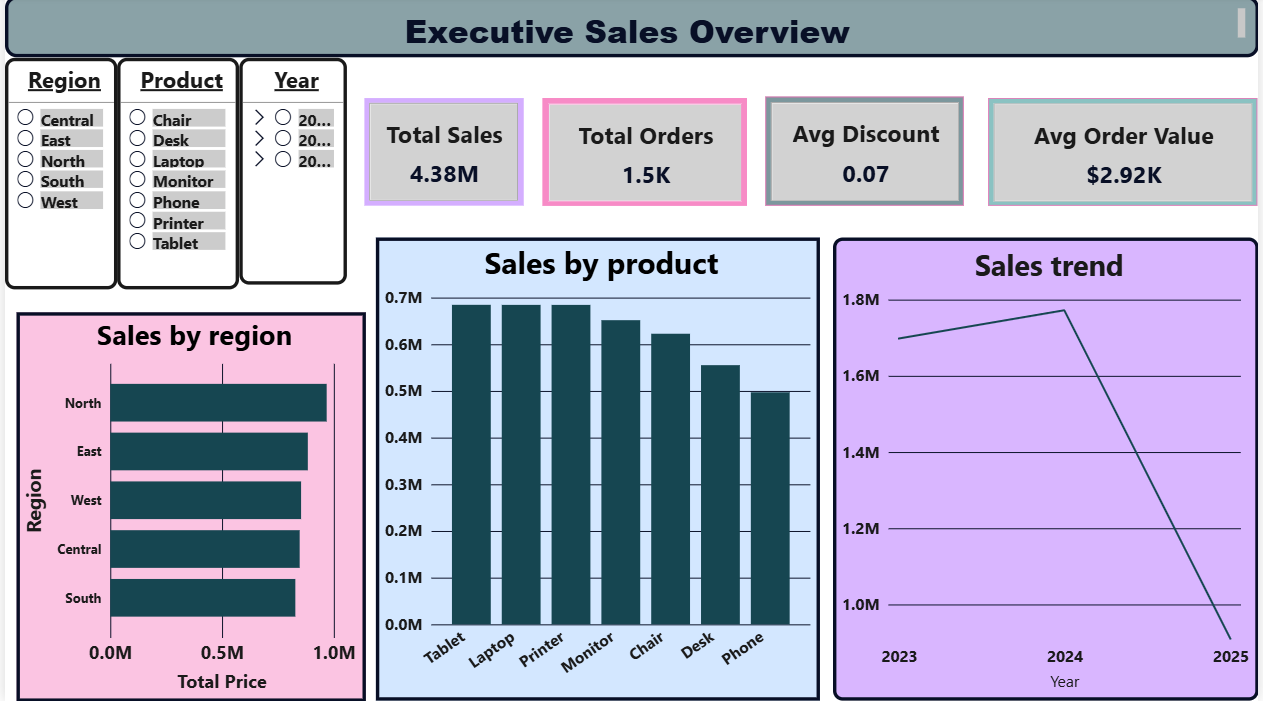

The dashboard page shown, as its layout file describes it:
{"tool":"powerbi","page":{"name":"Executive Overview","canvas":[1280,720],"ordinal":0},"visuals":[{"type":"cardVisual","fields":{"Data":["Count(Sheet1.OrderID)"]},"box":[549.1,104.2,208.5,110.1],"z":0},{"type":"cardVisual","fields":{"Data":["Sum(Sheet1.TotalPrice)"]},"box":[367.1,104.2,163,110.1],"z":1000},{"type":"cardVisual","fields":{"Data":["Sheet1.AvgDiscount"]},"box":[776.7,102.8,202.6,111.6],"z":2000},{"type":"clusteredBarChart","title":"Sales by region","fields":{"Category":["Sheet1.Region"],"Y":["Sum(Sheet1.TotalPrice)"]},"box":[11.7,323,356.8,397.9],"z":3000},{"type":"clusteredColumnChart","title":"Sales by product","fields":{"Category":["Sheet1.Product"],"Y":["Sum(Sheet1.TotalPrice)"]},"box":[378.8,246.7,453.7,472.8],"z":4000},{"type":"lineChart","title":"Sales trend","fields":{"Category":["Sheet1.Date.Variation.Date Hierarchy.Year","Sheet1.Date.Variation.Date Hierarchy.Quarter","Sheet1.Date.Variation.Date Hierarchy.Month","Sheet1.Date.Variation.Date Hierarchy.Day"],"Y":["Sum(Sheet1.TotalPrice)"]},"box":[845.7,246.7,434.6,472.8],"z":5000},{"type":"listSlicer","fields":{"Values":["Sheet1.Region"]},"box":[0,63.1,114.5,236.4],"z":6000},{"type":"cardVisual","fields":{"Data":["Sheet1.AverageOrderValue"]},"box":[1004.3,104.2,274.6,110.1],"z":7000},{"type":"textbox","box":[0,0,1280.6,62.7],"z":8000},{"type":"listSlicer","fields":{"Values":["Sheet1.Product"]},"box":[114.5,63.1,124.8,236.4],"z":9000},{"type":"listSlicer","fields":{"Values":["Sheet1.Date.Variation.Date Hierarchy.Year","Sheet1.Date.Variation.Date Hierarchy.Quarter","Sheet1.Date.Variation.Date Hierarchy.Month","Sheet1.Date.Variation.Date Hierarchy.Day"]},"box":[239.3,63.1,110.1,232],"z":10000}]}

Visuals, with their boxes in screenshot pixels (x1, y1, x2, y2), scaled from the page's 1280x720 canvas onto the 1263x701 screenshot:
cardVisual - Count(Sheet1.OrderID): BBox(542, 101, 748, 209)
cardVisual - Sum(Sheet1.TotalPrice): BBox(362, 101, 523, 209)
cardVisual - Sheet1.AvgDiscount: BBox(766, 100, 966, 209)
"Sales by region" clusteredBarChart: BBox(12, 314, 364, 700)
"Sales by product" clusteredColumnChart: BBox(374, 240, 821, 700)
"Sales trend" lineChart: BBox(834, 240, 1262, 700)
listSlicer - Sheet1.Region: BBox(0, 61, 113, 292)
cardVisual - Sheet1.AverageOrderValue: BBox(991, 101, 1262, 209)
textbox: BBox(0, 0, 1262, 61)
listSlicer - Sheet1.Product: BBox(113, 61, 236, 292)
listSlicer - Sheet1.Date.Variation.Date Hierarchy.Year x Sheet1.Date.Variation.Date Hierarchy.Quarter: BBox(236, 61, 345, 287)
